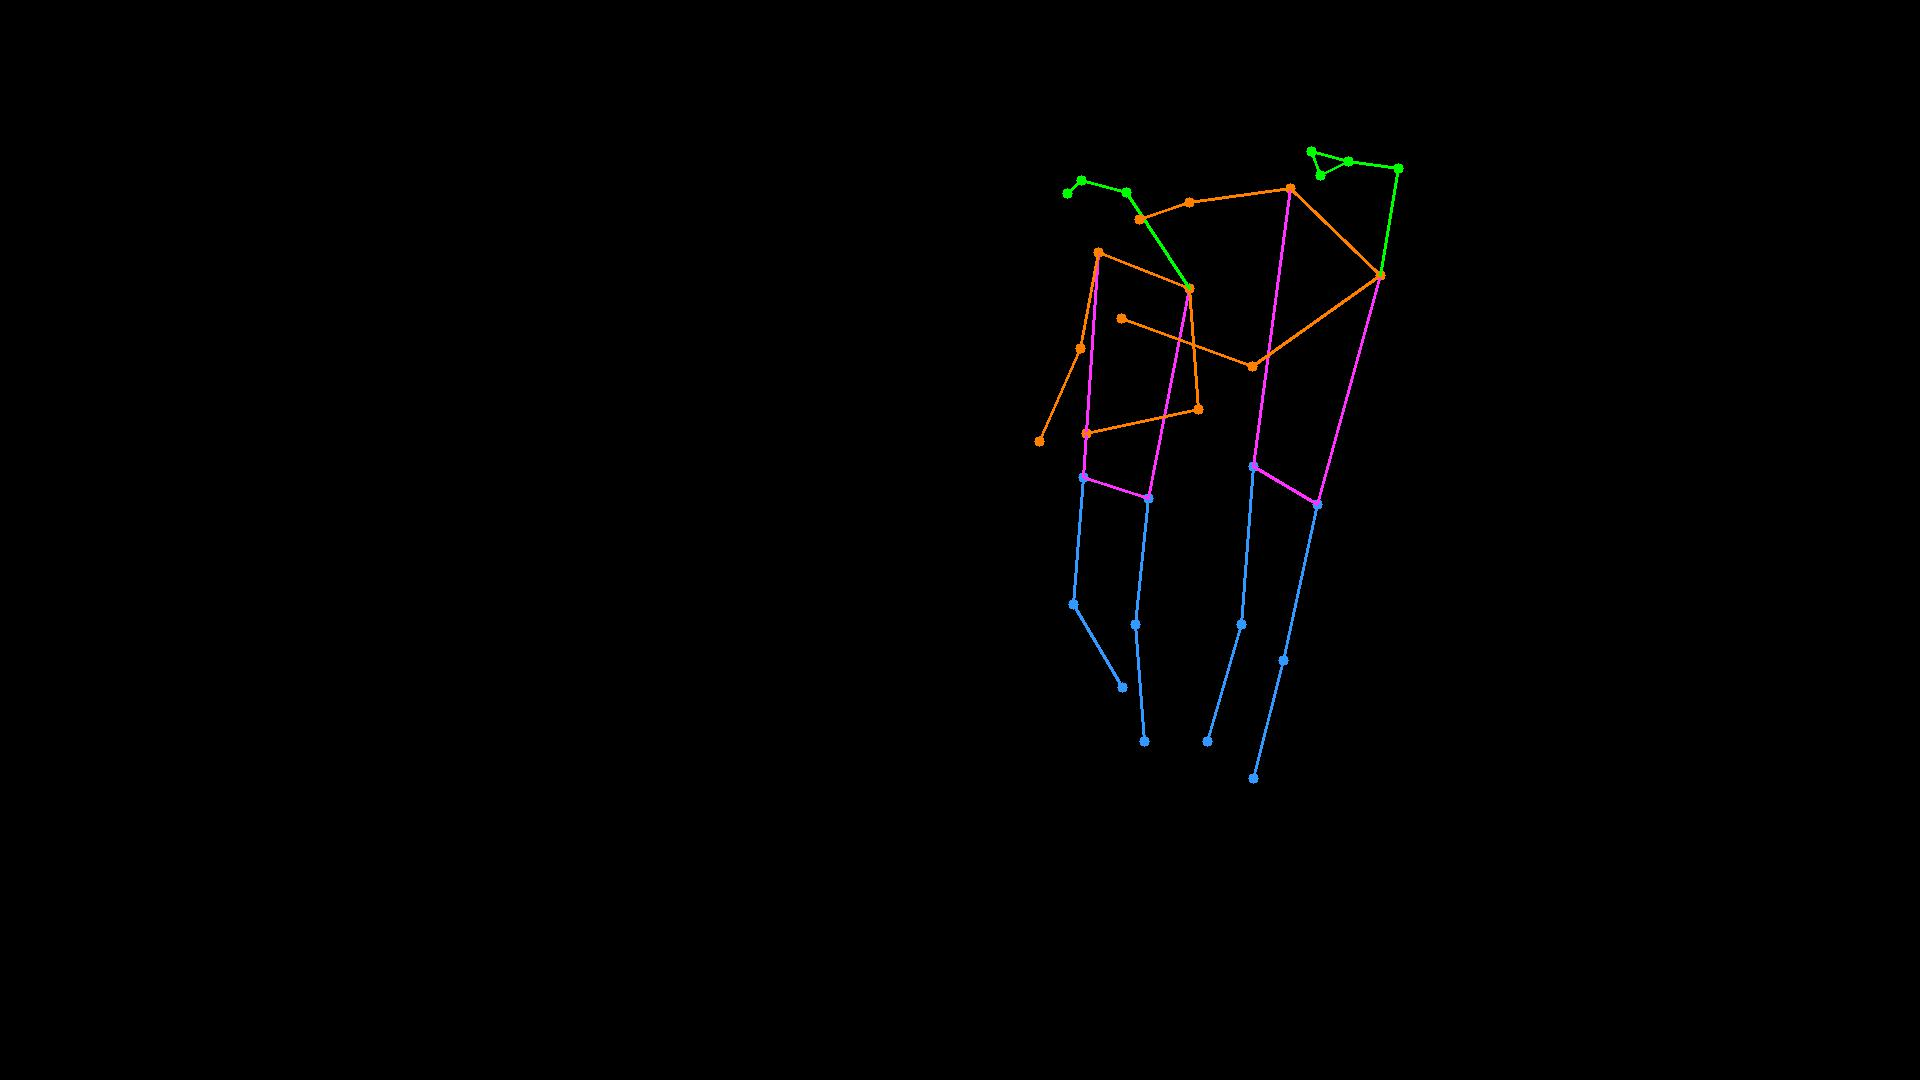normal: (965, 103, 1451, 828)
